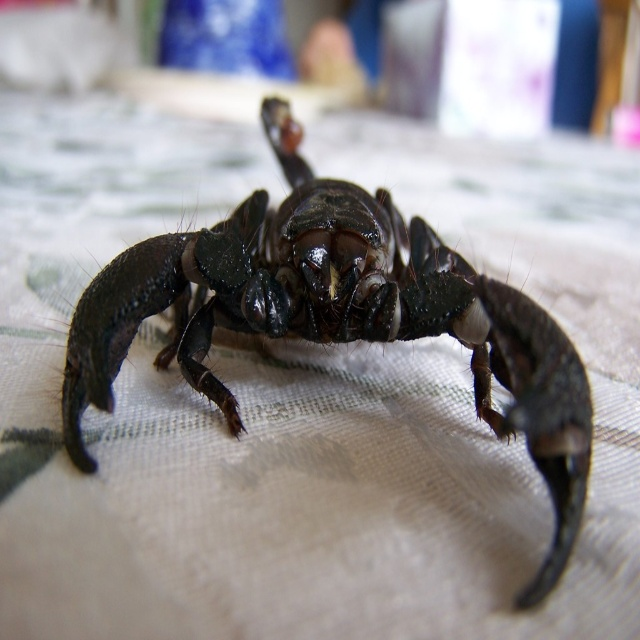Scorpion: (53, 97, 592, 609)
